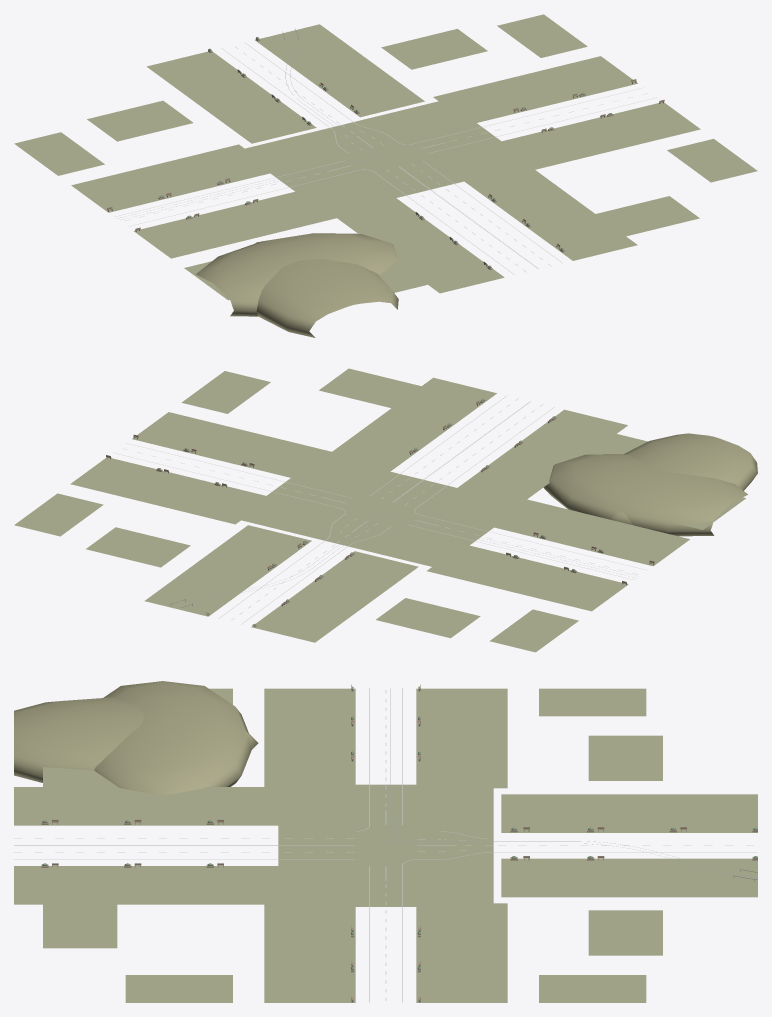
The picture shows the model from 3 angles, top to bottom: view 1: azimuth 30°, elevation 25°; view 2: azimuth 150°, elevation 25°; view 3: azimuth 270°, elevation 25°; orthographic projection. The views are drawn at different scales.
Visible parts, largest first — view 1: static; view 2: static; view 3: static.
Part boxes in pixels (x1,y1,x2,y2): static: (14,14,757,337); static: (14,368,757,652); static: (14,681,757,1002).
Size of what is drawn, in the model's own units: 180 by 14.08 by 180.
